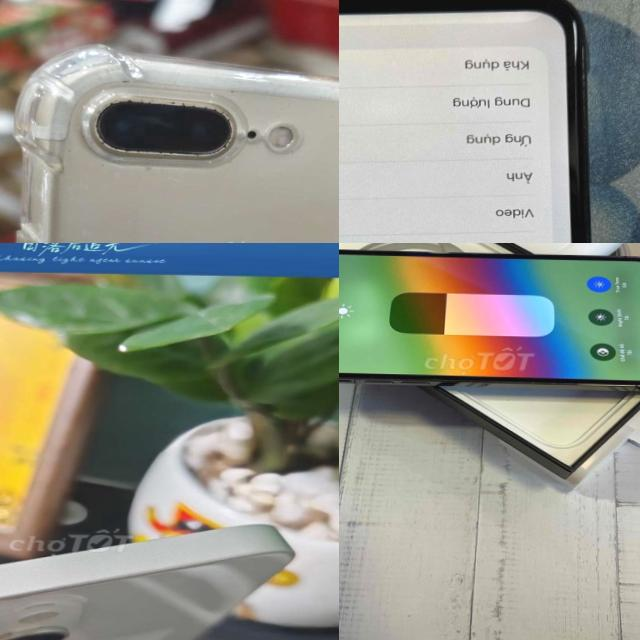gen_11: (339, 0, 589, 243)
gen_12_13: (339, 243, 640, 390)
gen_14: (0, 516, 298, 640)
gen_7_8: (0, 40, 339, 243)
